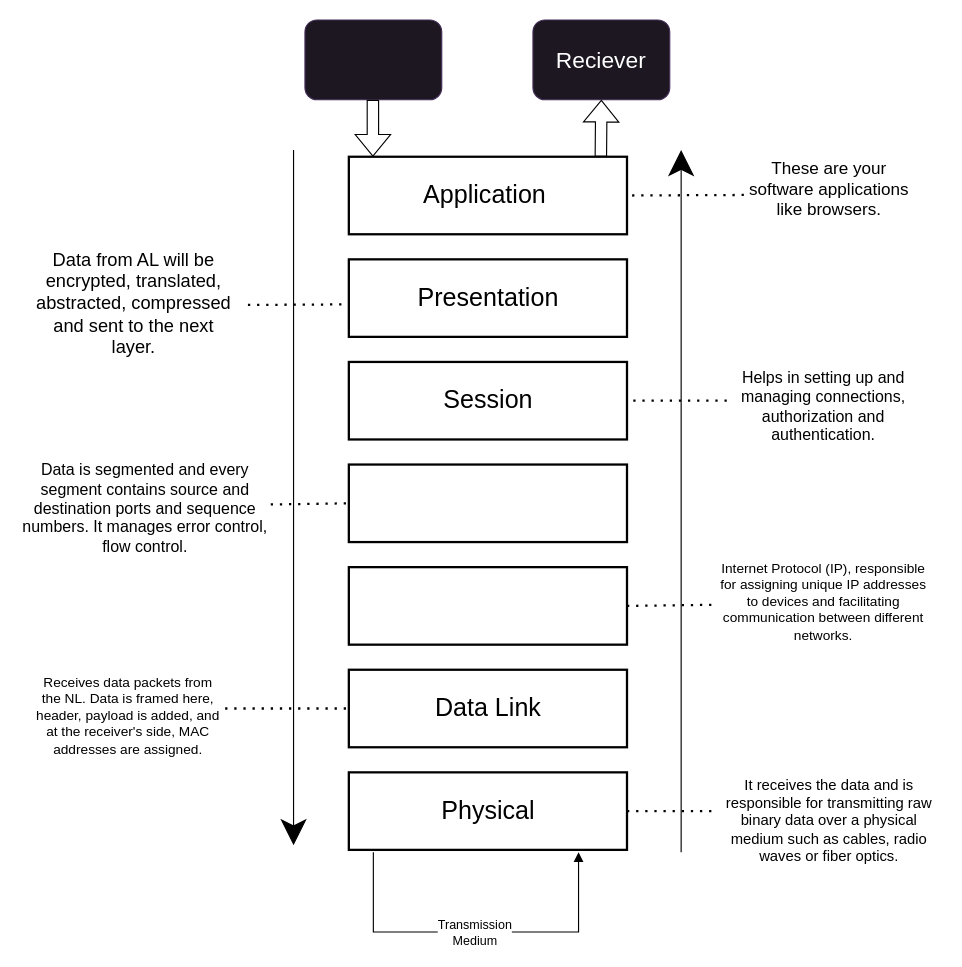
The diagram is 962 pixels wide and 967 high, and some of its shapes have lost their labels. Here are the shapes that lost their labels. From the top down, the centre of each, then its label:
(373,59): Sender
(487,503): Transport
(487,605): Network
